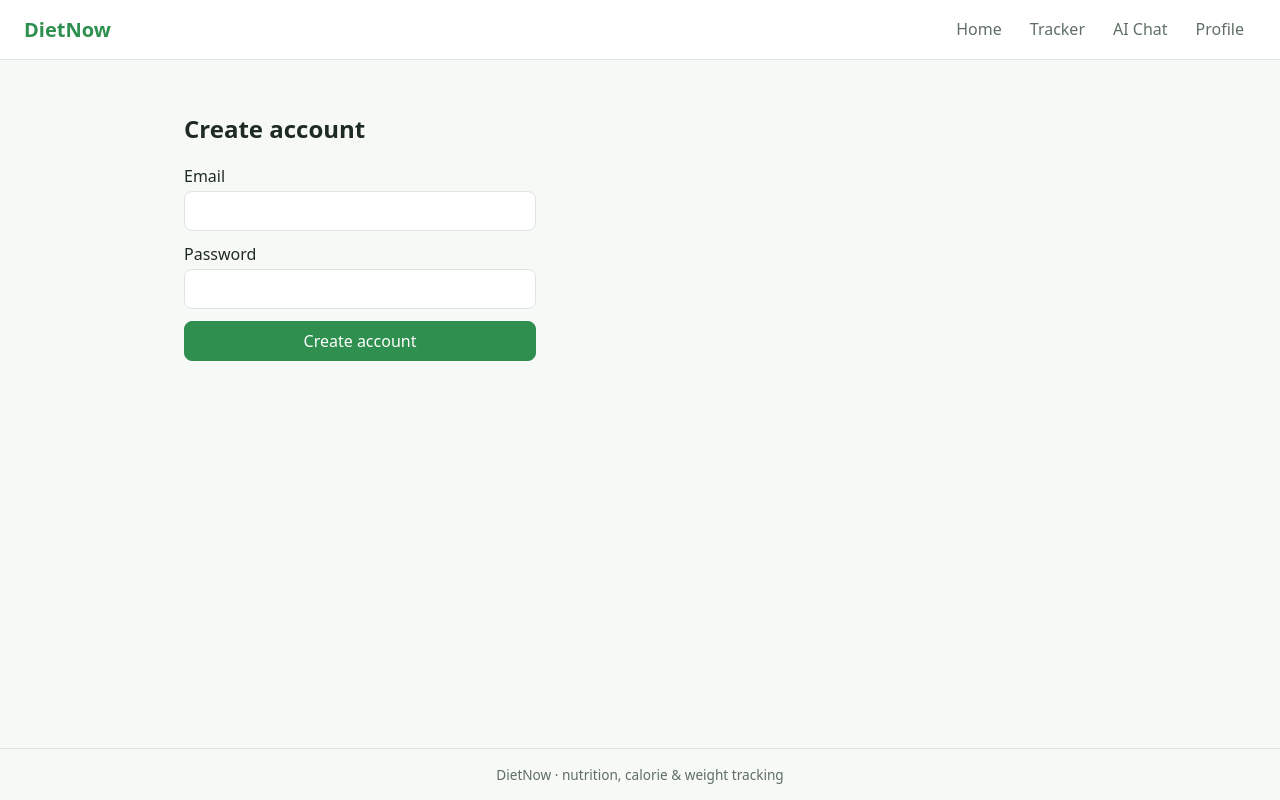
Test: updates navigation after submitting /register despite a late session lookup
Type "test@dietnow.app" into the field labelled "Email" at (360, 211), box [184,191,536,231]
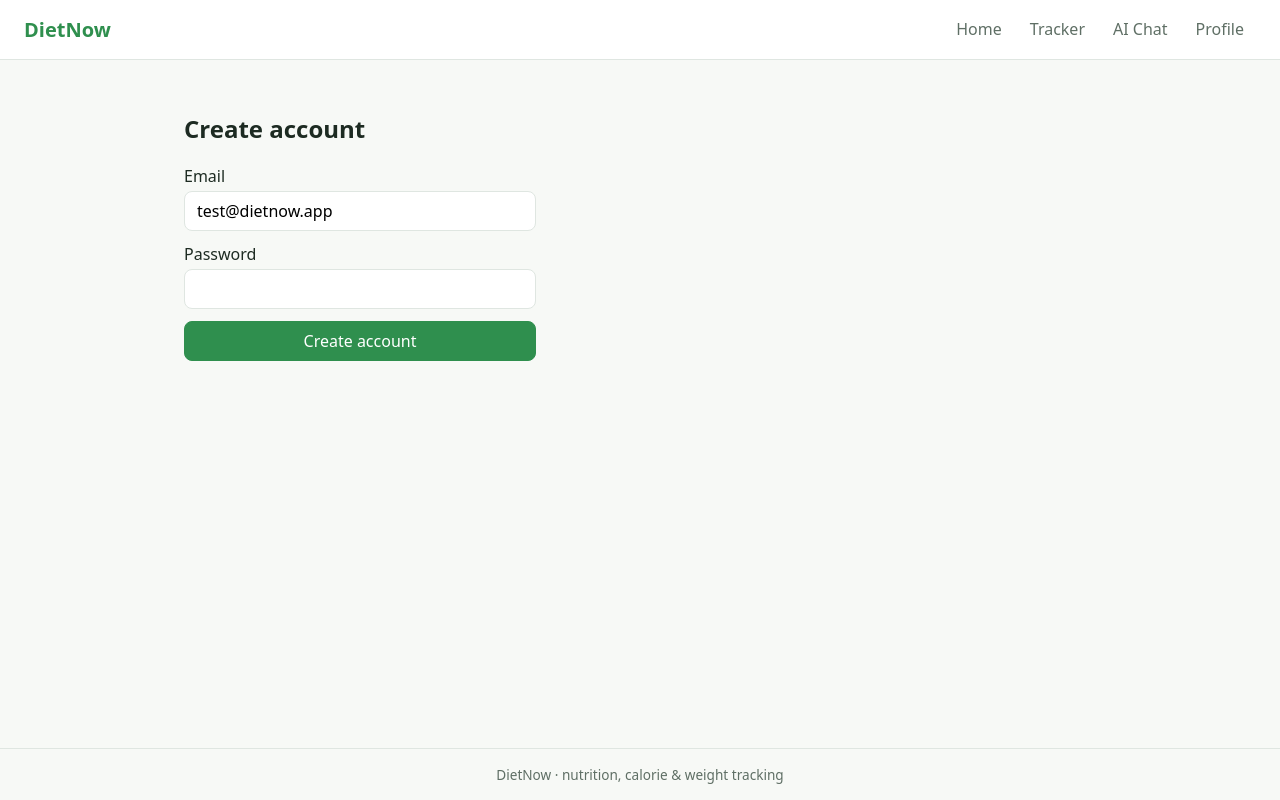
Type "Password123!" into the password field labelled "Password" at (360, 289), box [184,269,536,309]
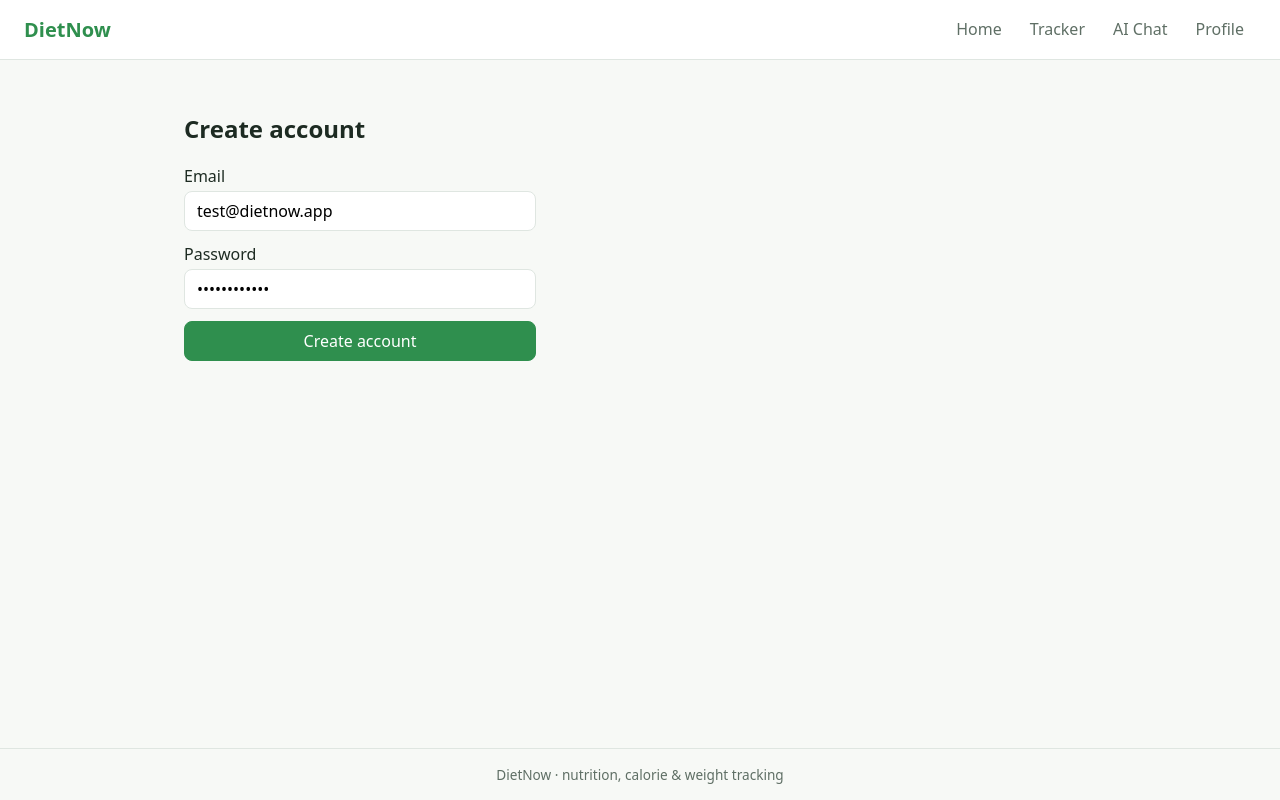
Click the button "Create account" at (360, 341), box [184,321,536,361]
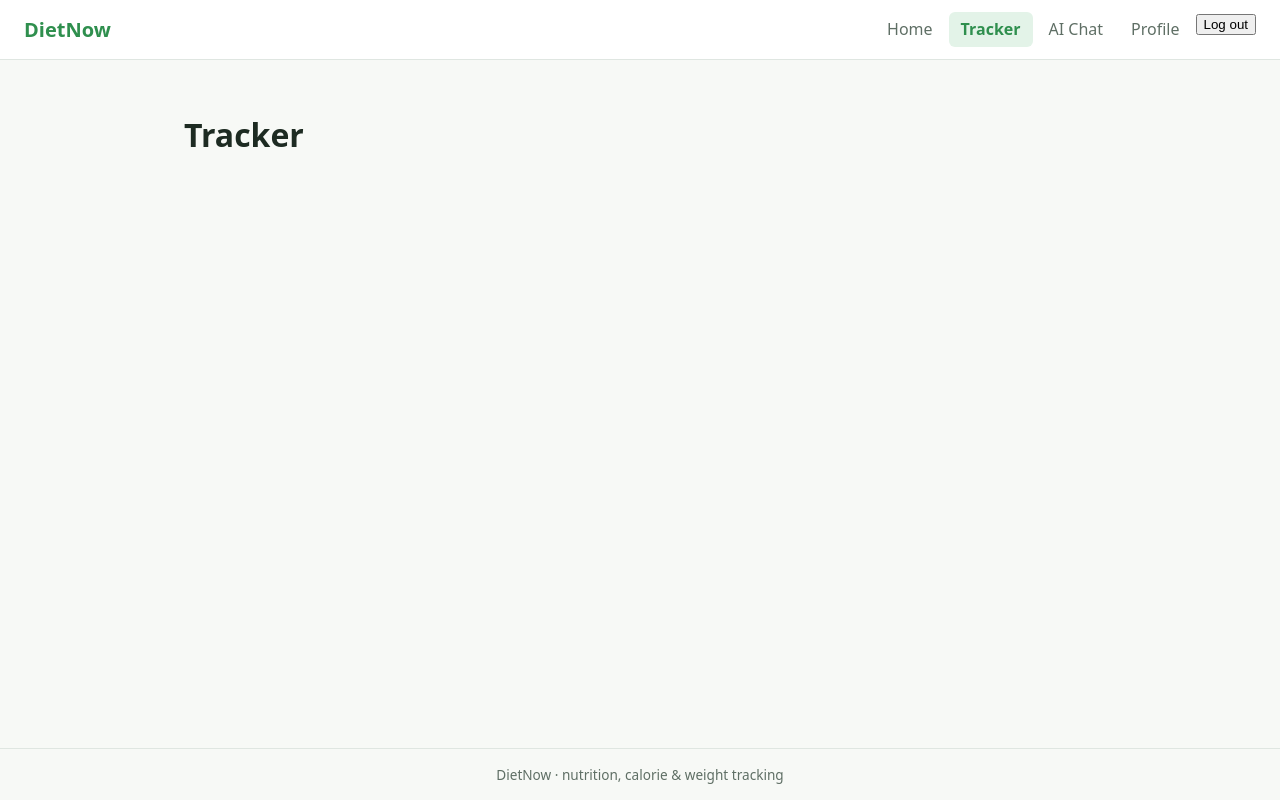
Check: the heading "Tracker" is shown, box [184,113,304,156]
Check: the button "Log out" is shown, box [1196,14,1256,35]
Check: the heading "Create account" is gone
